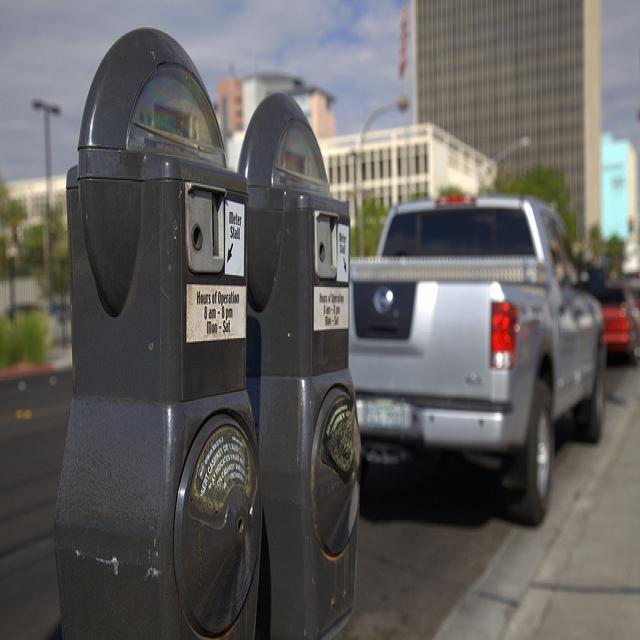Vehicle: (345, 193, 608, 531), (584, 286, 640, 366)
